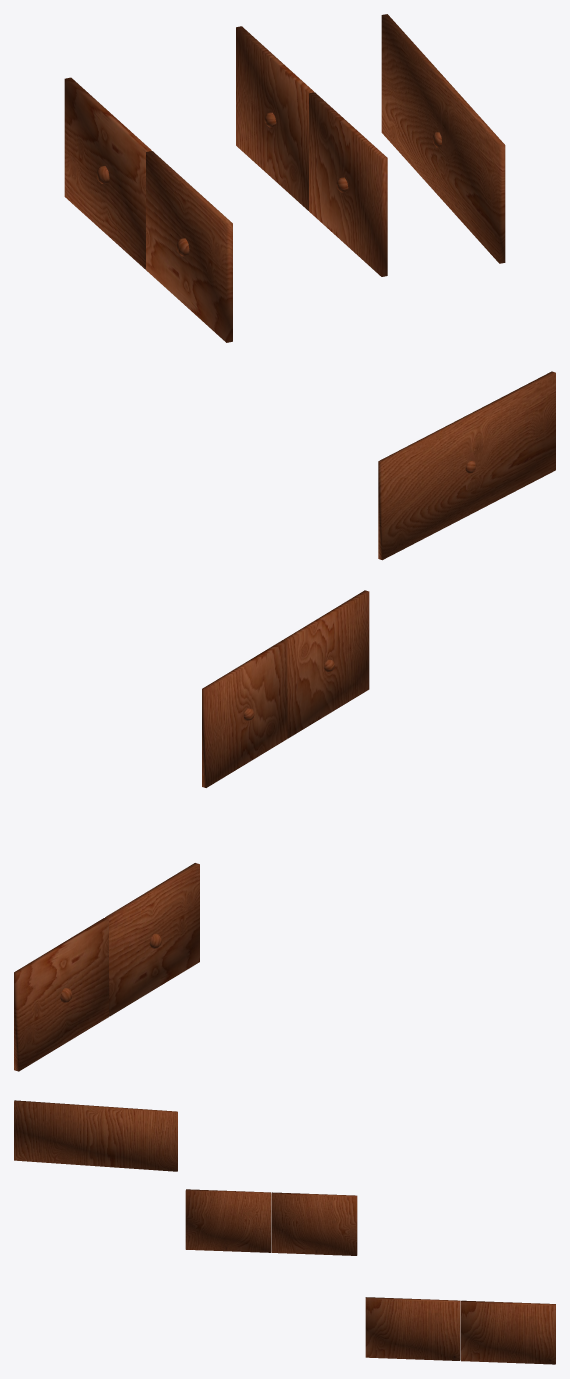
The model's file is mesh_80_room_bits.glb.
The picture shows the model from 3 angles, top to bottom: view 1: azimuth 30°, elevation 25°; view 2: azimuth 150°, elevation 25°; view 3: azimuth 270°, elevation 25°; orthographic projection. The views are drawn at different scales.
Parts seen in each view (by area): view 1: mesh_Shelf_3_Cupboard_5.002, mesh_Shelf_3_Cupboard_4.002, mesh_Shelf_3_Cupboard_1.002, mesh_Shelf_3_Cupboard_2.002, mesh_Shelf_3_Cupboard_3.002; view 2: mesh_Shelf_3_Cupboard_5.002, mesh_Shelf_3_Cupboard_1.002, mesh_Shelf_3_Cupboard_4.002, mesh_Shelf_3_Cupboard_3.002, mesh_Shelf_3_Cupboard_2.002; view 3: mesh_Shelf_3_Cupboard_5.002, mesh_Shelf_3_Cupboard_4.002, mesh_Shelf_3_Cupboard_1.002, mesh_Shelf_3_Cupboard_2.002, mesh_Shelf_3_Cupboard_3.002.
Boxes of the visible parts, x1,y1,x2,y2 form: mesh_Shelf_3_Cupboard_5.002: (381, 14, 505, 263); mesh_Shelf_3_Cupboard_4.002: (146, 151, 232, 342); mesh_Shelf_3_Cupboard_1.002: (64, 77, 151, 269); mesh_Shelf_3_Cupboard_2.002: (309, 92, 387, 276); mesh_Shelf_3_Cupboard_3.002: (236, 26, 313, 210); mesh_Shelf_3_Cupboard_5.002: (378, 371, 555, 560); mesh_Shelf_3_Cupboard_1.002: (14, 918, 108, 1071); mesh_Shelf_3_Cupboard_4.002: (105, 863, 199, 1016); mesh_Shelf_3_Cupboard_3.002: (202, 640, 287, 787); mesh_Shelf_3_Cupboard_2.002: (283, 590, 369, 738); mesh_Shelf_3_Cupboard_5.002: (14, 1100, 177, 1171); mesh_Shelf_3_Cupboard_4.002: (365, 1297, 460, 1360); mesh_Shelf_3_Cupboard_1.002: (461, 1300, 555, 1364); mesh_Shelf_3_Cupboard_2.002: (185, 1189, 271, 1252); mesh_Shelf_3_Cupboard_3.002: (271, 1192, 357, 1255).
Bounding box in the file's own units: 0.2355 × 0.9423 × 1.96.
1 material, 1 textured.
